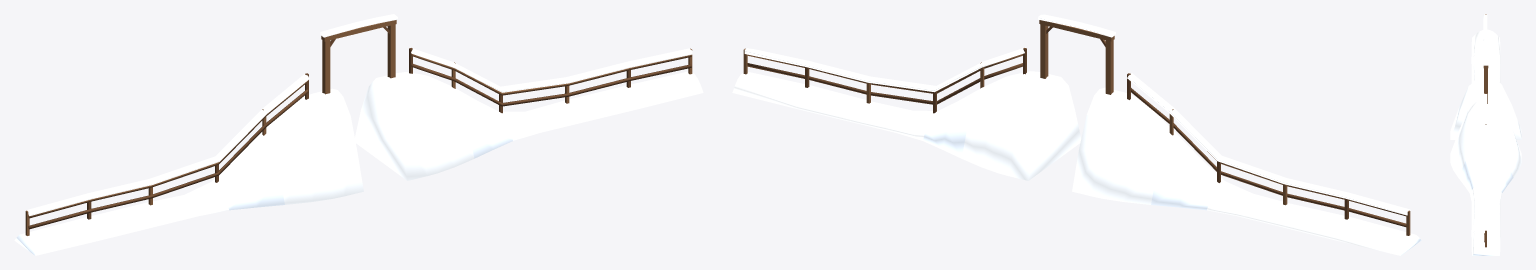
Rendered from snow-fence.glb.
3 renders of one model, left to right at view 1: azimuth 30°, elevation 25°; view 2: azimuth 150°, elevation 25°; view 3: azimuth 270°, elevation 25°, orthographic. The views are drawn at different scales.
Visible parts, largest first — view 1: snow-fence; view 2: snow-fence; view 3: snow-fence.
Part boxes in pixels (bbox=[...]): snow-fence: bbox=[14, 14, 703, 255]; snow-fence: bbox=[732, 14, 1421, 255]; snow-fence: bbox=[1450, 14, 1521, 255].
Bounding box in the file's own units: 70.6 × 14.49 × 9.79.
